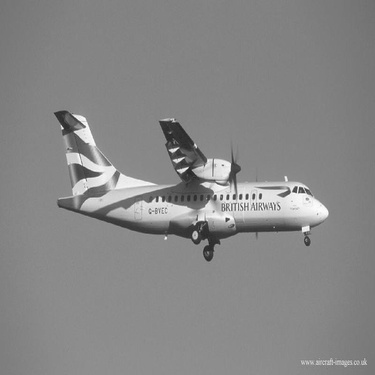airplane: (33, 97, 335, 266)
